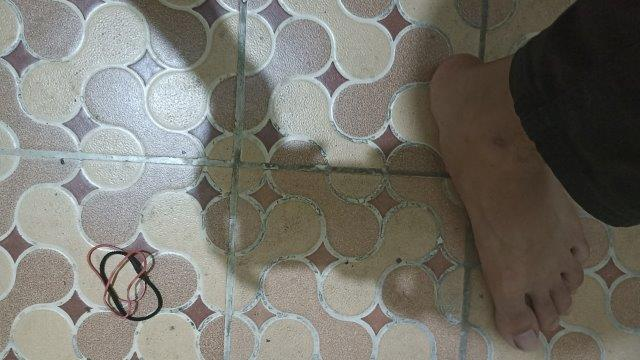karet: (87, 244, 163, 322)
